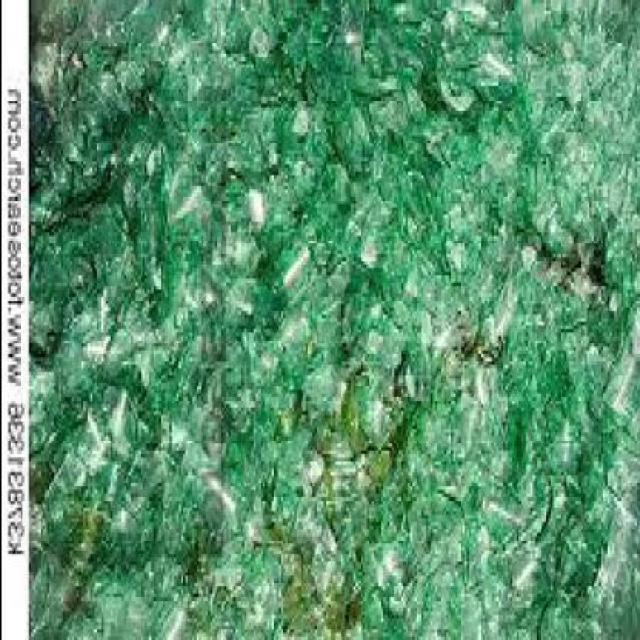glass: (29, 3, 638, 639), (168, 5, 492, 512), (163, 4, 415, 276), (363, 54, 502, 432), (37, 436, 248, 638), (436, 4, 578, 304), (95, 261, 231, 537), (351, 443, 537, 639), (37, 5, 163, 232), (540, 211, 638, 492), (238, 397, 371, 594), (500, 297, 623, 465), (557, 5, 629, 258), (536, 478, 638, 640), (34, 3, 95, 262)
